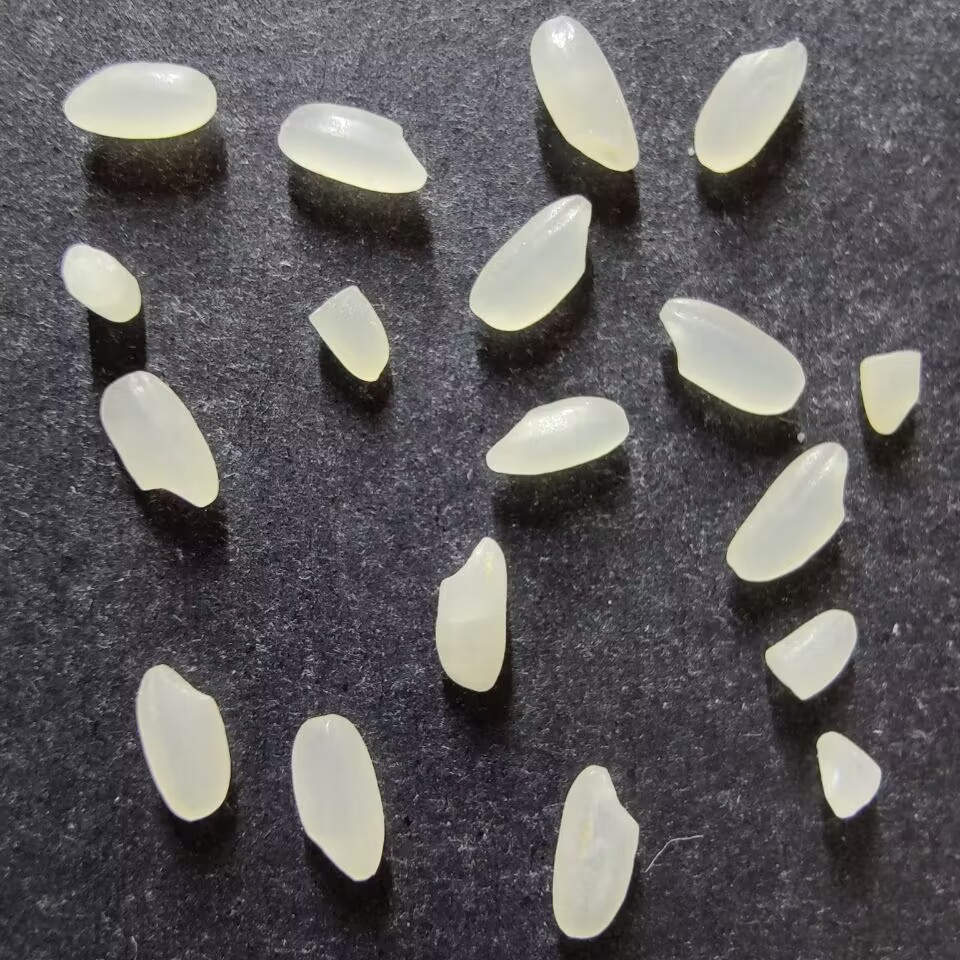broken: (764, 608, 858, 700), (307, 284, 390, 382), (61, 243, 142, 323), (814, 730, 883, 818), (859, 350, 923, 436)
rice: (528, 15, 640, 172), (726, 441, 848, 583), (658, 298, 805, 415), (468, 194, 592, 331), (99, 370, 220, 508), (290, 713, 385, 882), (550, 763, 639, 939), (692, 40, 808, 174), (135, 664, 230, 821), (276, 102, 428, 194), (62, 61, 217, 139), (484, 395, 630, 475), (434, 535, 506, 693)
